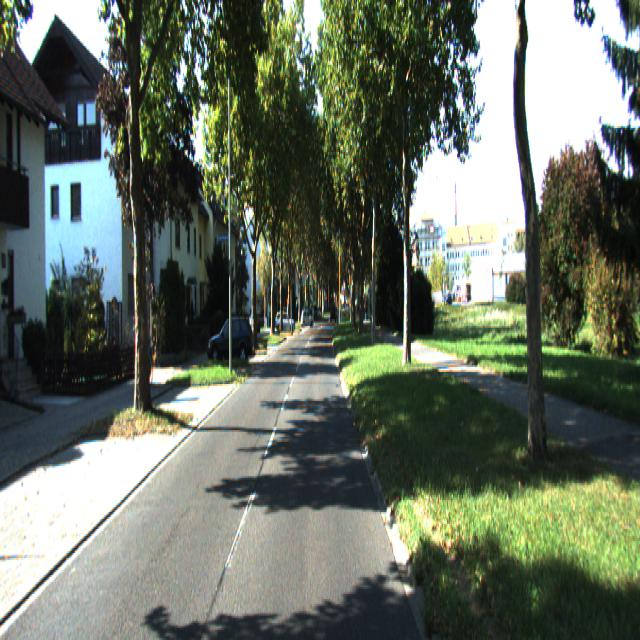Car: (206, 315, 253, 368)
